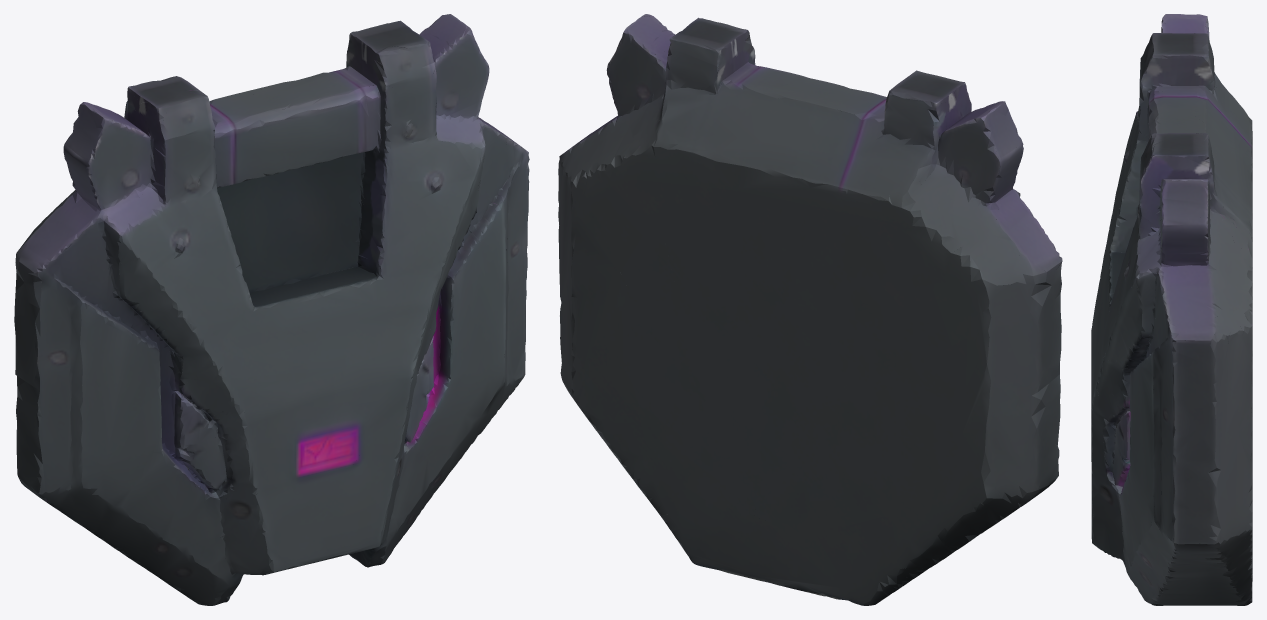
Rendered from classiclemans_armor.glb.
The picture shows the model from 3 angles, left to right: view 1: azimuth 30°, elevation 25°; view 2: azimuth 150°, elevation 25°; view 3: azimuth 270°, elevation 25°; orthographic projection. The views are drawn at different scales.
Visible parts, largest first — view 1: Armor_Classic_LeMans; view 2: Armor_Classic_LeMans; view 3: Armor_Classic_LeMans.
Part boxes in pixels (<box>): Armor_Classic_LeMans: <box>14,14,529,605</box>; Armor_Classic_LeMans: <box>558,14,1062,605</box>; Armor_Classic_LeMans: <box>1091,14,1252,605</box>.
Bounding box in the file's own units: 1.21 × 1.19 × 0.3696.
1 material, 1 textured.
